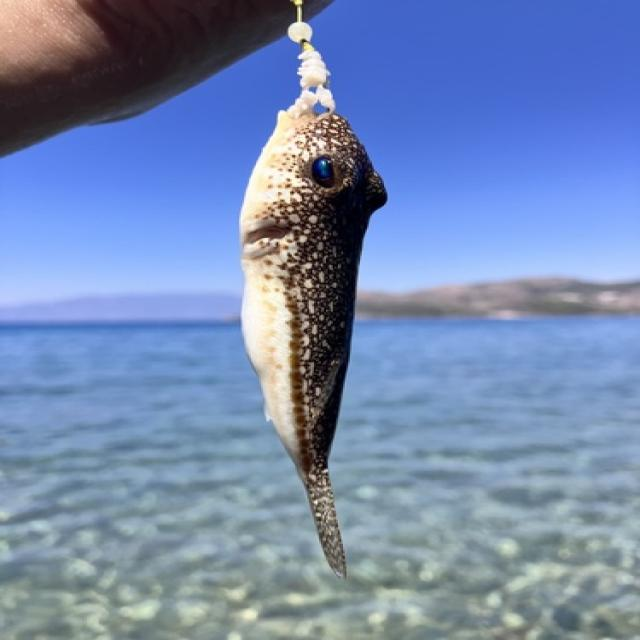Balik: (241, 112, 387, 577)
